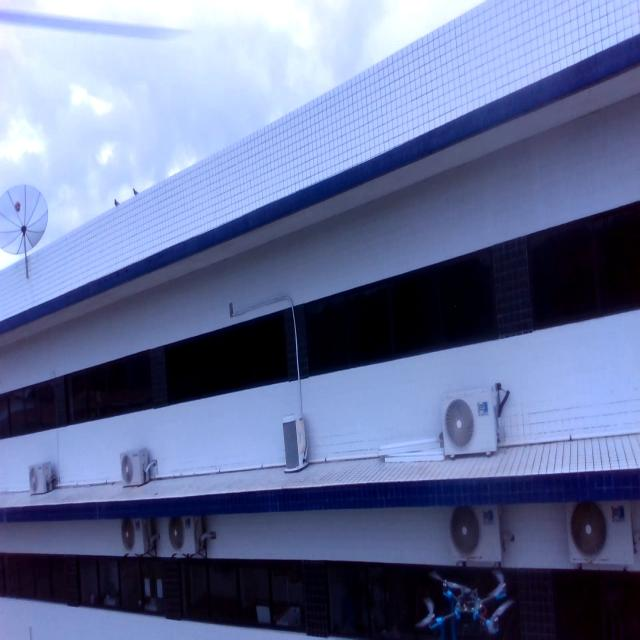-uav-: (420, 561, 518, 640)
